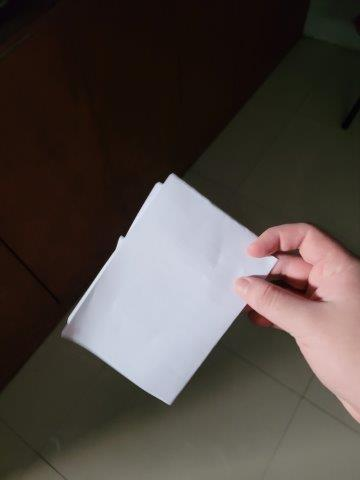kertas: (60, 171, 281, 405)
